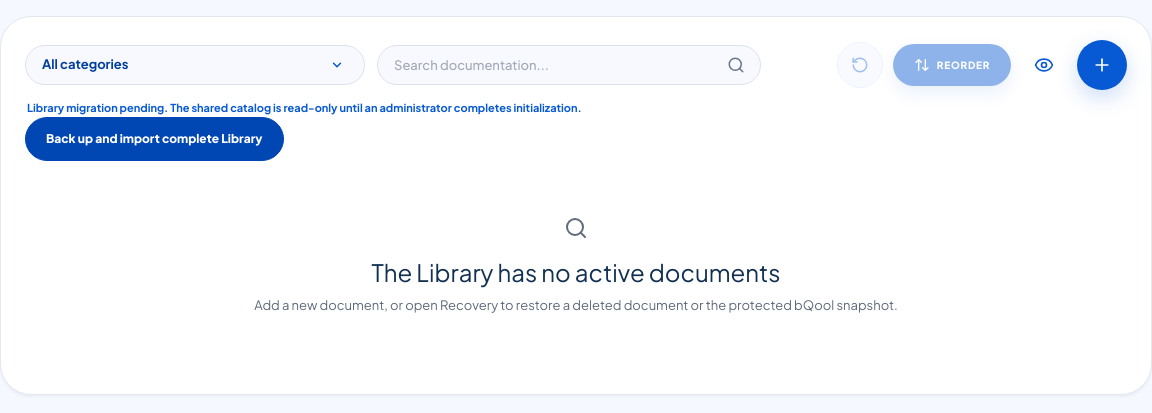
catalog hydration › keeps migration pending and reports a failed ADMIN migration
Click the button "Back up and import complete Library" at coordinates (154, 138), box [25,116,284,160]
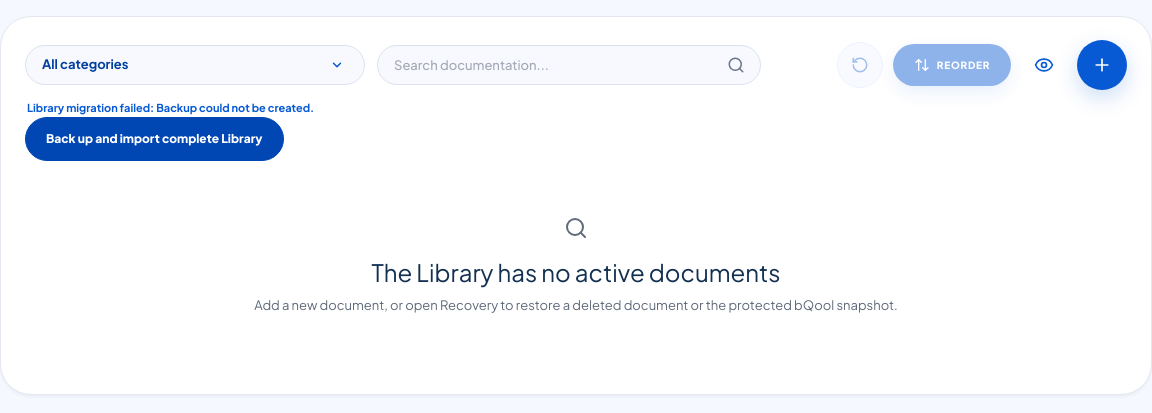
Now the text "Library migration failed: Backup could not be created." is shown, box [27,101,314,114]
